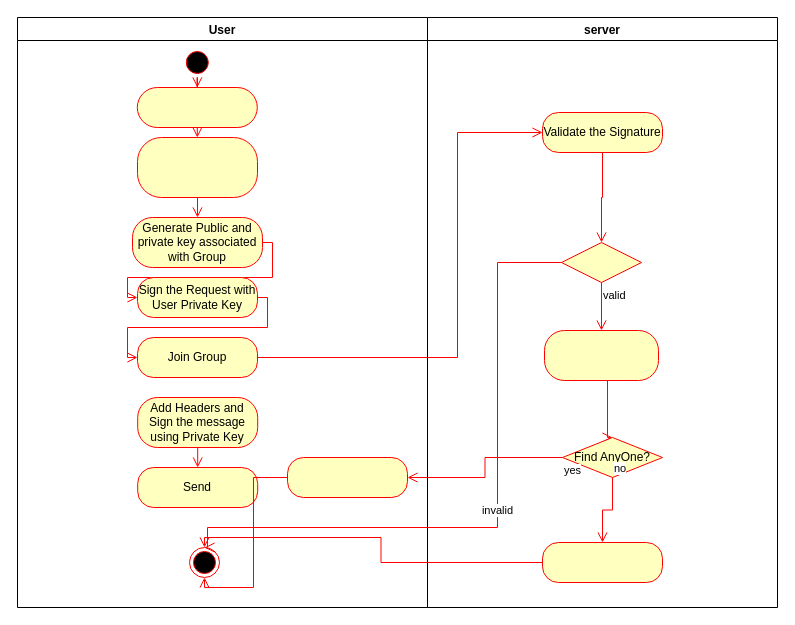
This 795x625 diagram has some shape labels left out. Here are the shapes that lost their labels. From the top down, the box of each, then its label:
(136, 86, 257, 128): Click On join Group Share
(136, 136, 258, 198): Enter the password
(544, 330, 658, 380): Find Peers who claim to have the group public key
(286, 456, 408, 498): inform Success
(542, 542, 662, 582): Inform failure
